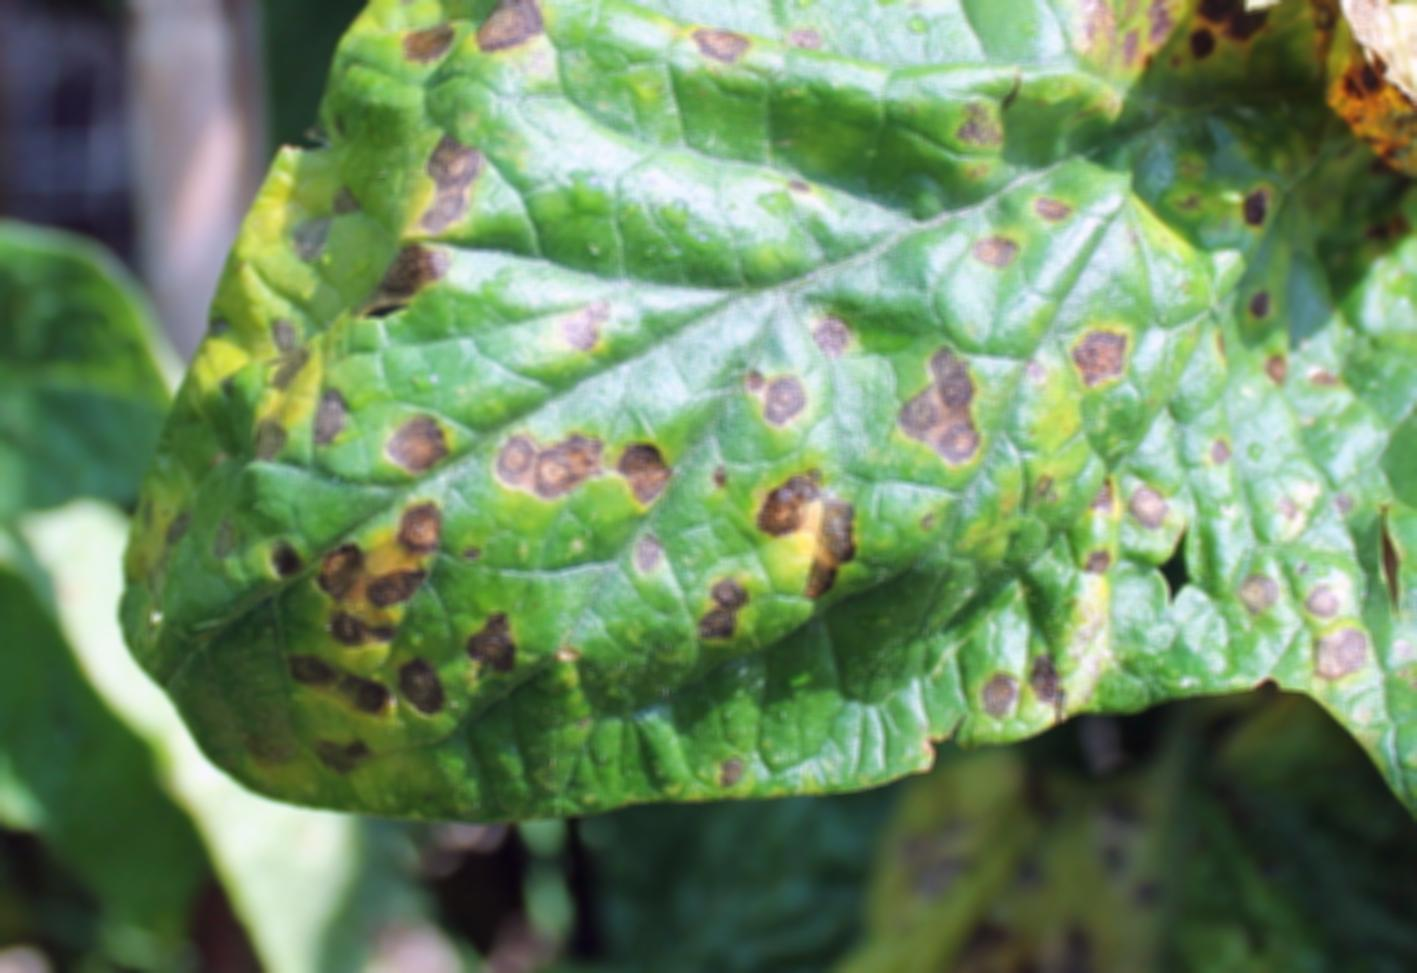Tomato Septoria leaf spot: (76, 0, 1417, 901)
